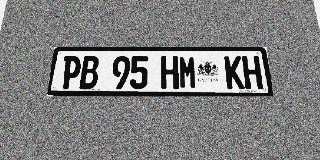5: (130, 56, 148, 89)
9: (111, 56, 131, 89)
B: (79, 56, 100, 89)
H: (242, 56, 263, 89), (161, 56, 179, 89)
K: (224, 56, 245, 89)
M: (179, 56, 197, 89)
P: (60, 56, 82, 89)
